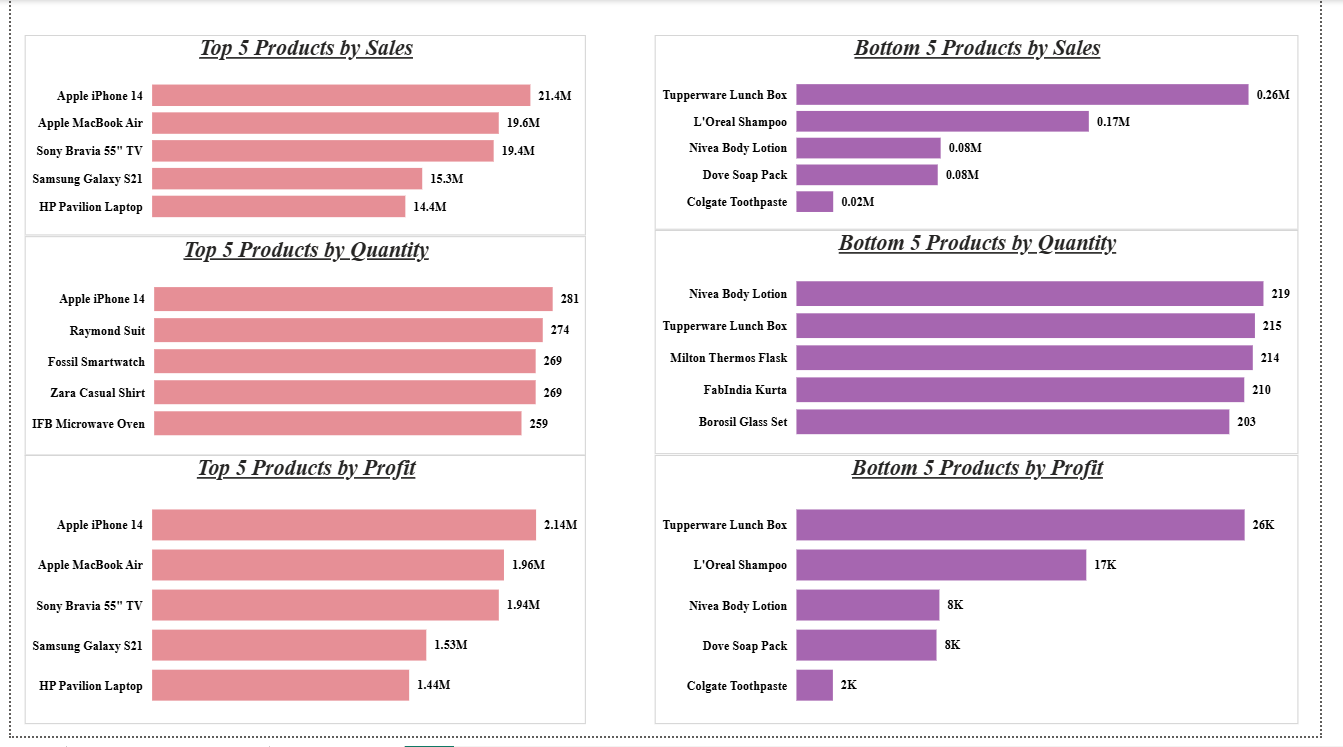

What the dashboard file says about the page in this screenshot:
{"tool":"powerbi","page":{"name":"Top Bottom 5 Analysis","canvas":[1280,720],"ordinal":1},"visuals":[{"type":"barChart","title":"Top 5 Products by Sales","fields":{"Category":["Dim Product.Product Name"],"Y":["Sum(Fact Table.Net Sales.1)"]},"box":[13.7,34.3,548.9,196.2],"z":0},{"type":"barChart","title":"Bottom 5 Products by Sales","fields":{"Category":["Dim Product.Product Name"],"Y":["Sum(Fact Table.Net Sales.1)"]},"box":[629.8,34.3,629.8,190.7],"z":1000},{"type":"barChart","title":"Top 5 Products by Quantity","fields":{"Category":["Dim Product.Product Name"],"Y":["Sum(Fact Table.Units Sold)"]},"box":[13.7,230.5,548.9,214.1],"z":2000},{"type":"barChart","title":"Bottom 5 Products by Quantity","fields":{"Category":["Dim Product.Product Name"],"Y":["Sum(Fact Table.Units Sold)"]},"box":[629.8,225,629.8,219.6],"z":3000},{"type":"barChart","title":"Top 5 Products by Profit","fields":{"Category":["Dim Product.Product Name"],"Y":["Sum(Fact Table.Profit)"]},"box":[13.7,444.6,548.9,263.5],"z":4000},{"type":"barChart","title":"Bottom 5 Products by Profit","fields":{"Category":["Dim Product.Product Name"],"Y":["Sum(Fact Table.Profit)"]},"box":[629.8,444.6,629.8,263.5],"z":5000}]}

Visuals, with their boxes in screenshot pixels (x1, y1, x2, y2), scaled from the page's 1280x720 canvas onto the 1343x747 screenshot:
"Top 5 Products by Sales" barChart: x1=14 y1=36 x2=590 y2=239
"Bottom 5 Products by Sales" barChart: x1=661 y1=36 x2=1322 y2=233
"Top 5 Products by Quantity" barChart: x1=14 y1=239 x2=590 y2=461
"Bottom 5 Products by Quantity" barChart: x1=661 y1=233 x2=1322 y2=461
"Top 5 Products by Profit" barChart: x1=14 y1=461 x2=590 y2=735
"Bottom 5 Products by Profit" barChart: x1=661 y1=461 x2=1322 y2=735
